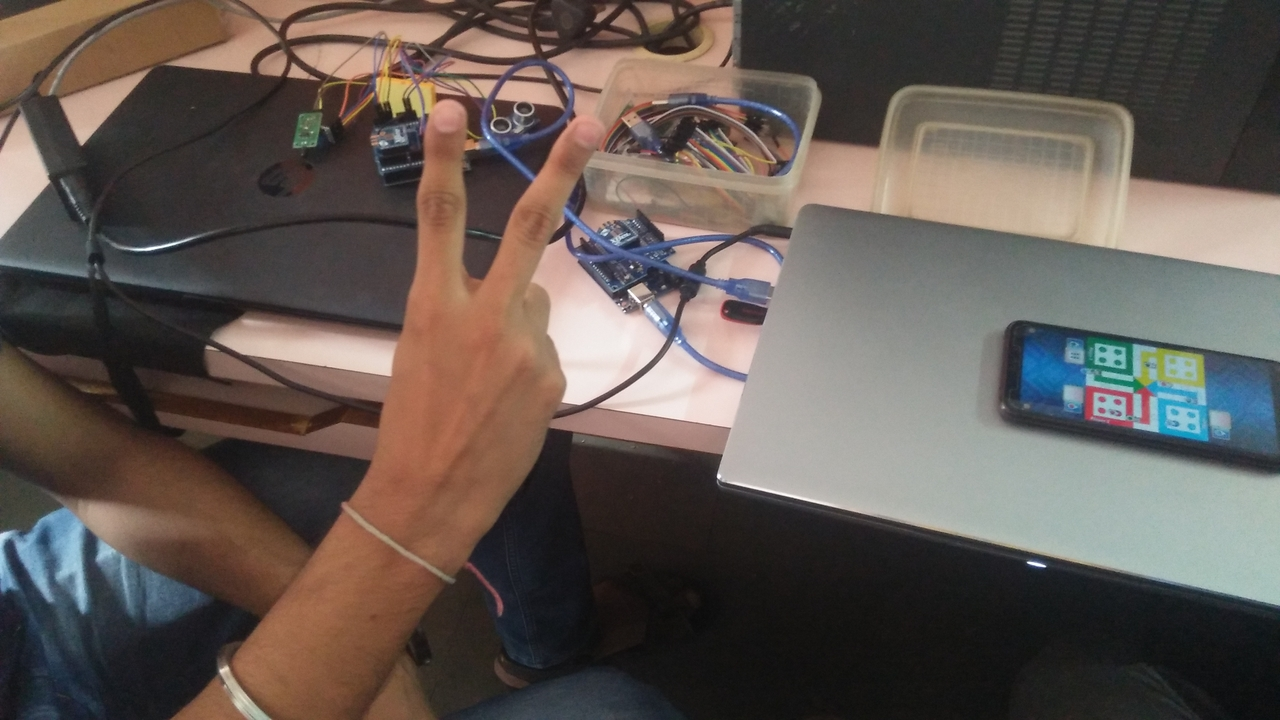fingertip: (542, 104, 610, 164), (420, 90, 470, 142)
